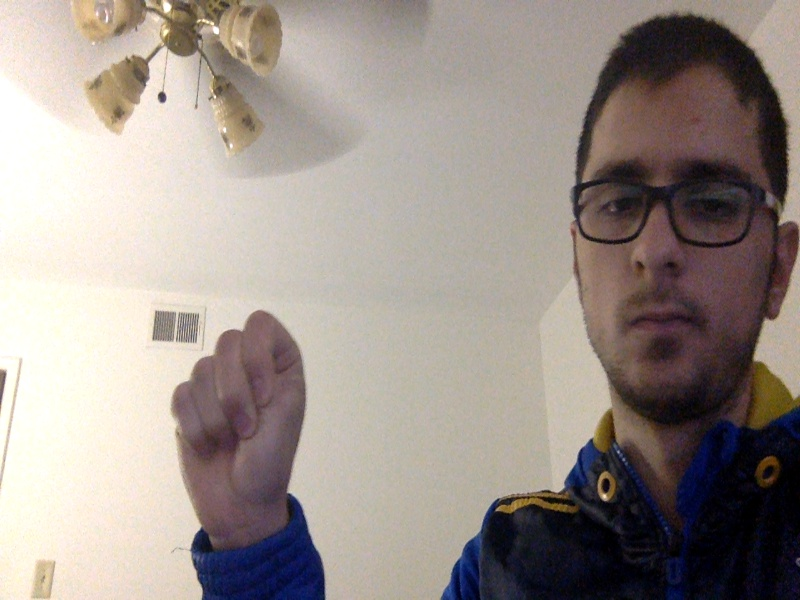0-hand: (171, 311, 307, 532)
